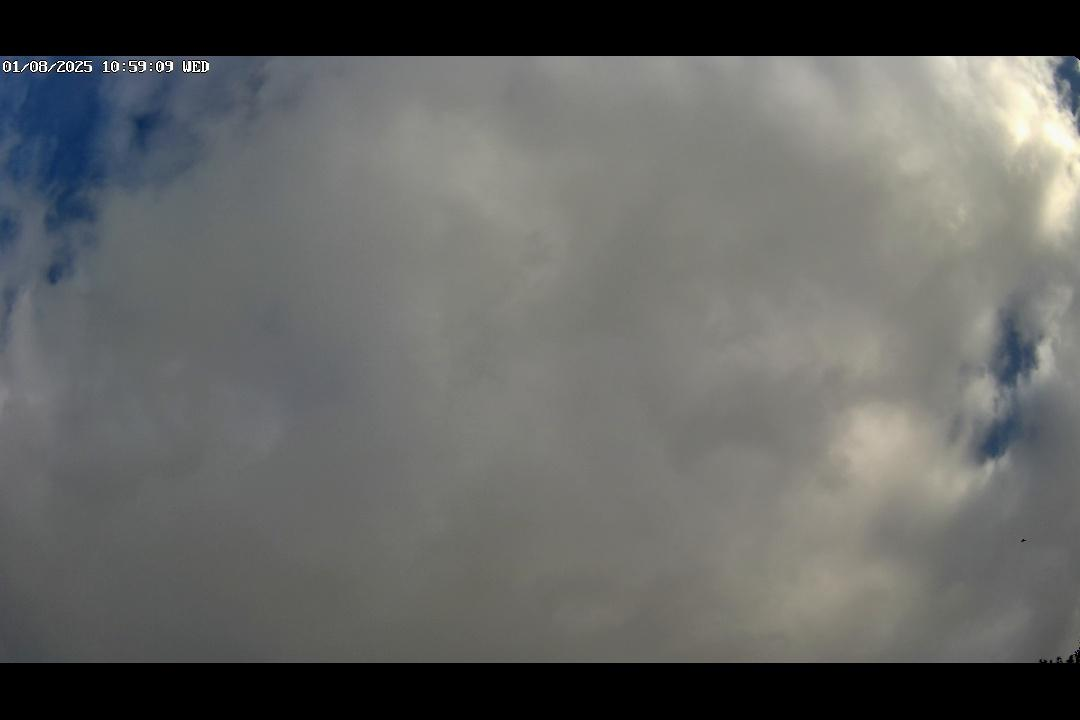WildLife: (1020, 533, 1030, 545)
